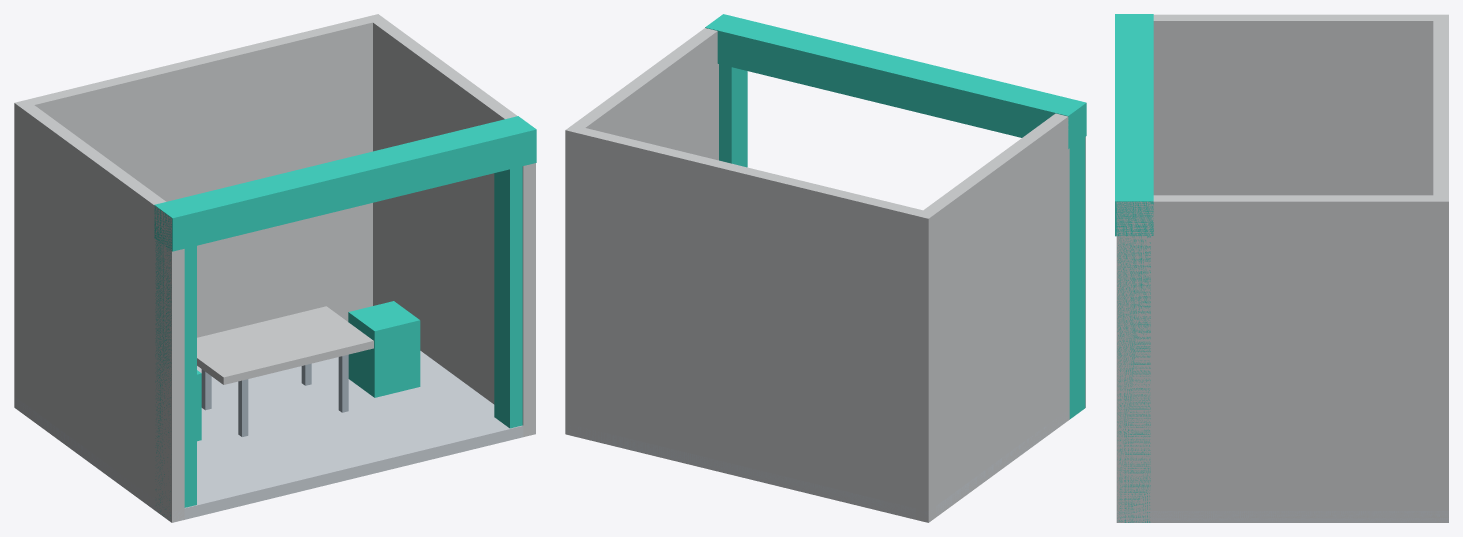
The picture shows the model from 3 angles, left to right: view 1: azimuth 30°, elevation 25°; view 2: azimuth 150°, elevation 25°; view 3: azimuth 270°, elevation 25°; orthographic projection. The views are drawn at different scales.
Parts seen in each view (by area): view 1: Exhibition Booth Concept; view 2: Exhibition Booth Concept; view 3: Exhibition Booth Concept.
Boxes of the visible parts, x1,y1,x2,y2 form: Exhibition Booth Concept: (14, 14, 536, 522); Exhibition Booth Concept: (565, 14, 1086, 522); Exhibition Booth Concept: (1115, 14, 1448, 522).
Size of the model in its own units: 4 by 3.2 by 3.01.
